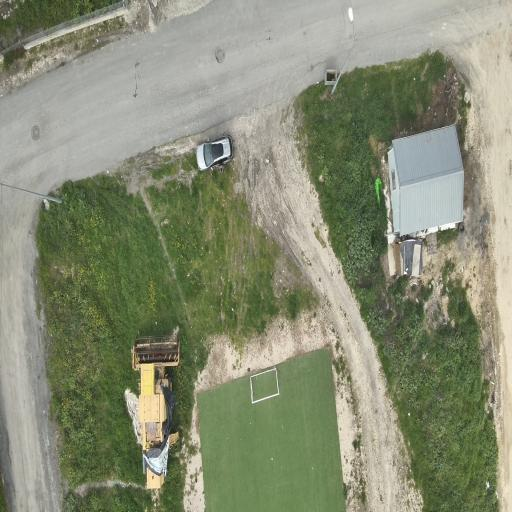car: (197, 136, 233, 170)
harvester: (133, 330, 179, 488)
